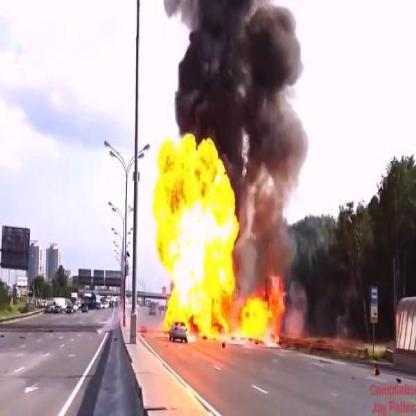fire: (152, 131, 287, 347)
